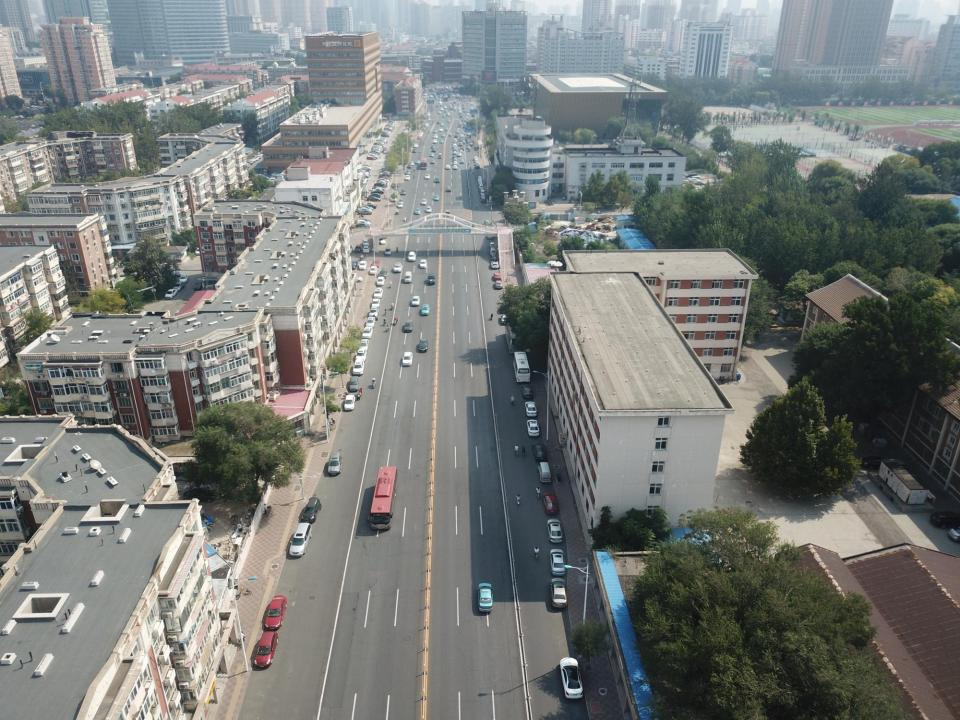bus: (367, 466, 398, 530), (505, 321, 526, 354), (513, 351, 531, 382), (420, 158, 426, 170)
car: (560, 657, 583, 699), (254, 630, 278, 668), (265, 595, 287, 629), (928, 509, 960, 529), (550, 577, 568, 608), (477, 582, 494, 612), (859, 455, 893, 470), (301, 498, 322, 522), (549, 548, 566, 576), (546, 518, 563, 543), (542, 490, 559, 514), (328, 452, 342, 474), (532, 442, 548, 461), (527, 419, 540, 437), (525, 401, 537, 417), (521, 383, 533, 399), (344, 395, 355, 410), (353, 360, 364, 375), (164, 288, 178, 299), (349, 376, 359, 391), (362, 326, 373, 339), (403, 352, 412, 366), (419, 338, 428, 352), (355, 349, 366, 360), (358, 339, 369, 350), (172, 282, 185, 291), (420, 304, 430, 315), (404, 320, 413, 332), (368, 306, 378, 316), (366, 316, 375, 327), (358, 205, 374, 211), (393, 262, 402, 272), (376, 276, 385, 286), (408, 251, 416, 262), (358, 210, 372, 216), (358, 207, 372, 213), (411, 296, 420, 305), (374, 288, 382, 298), (355, 223, 371, 228), (194, 280, 202, 290), (363, 203, 376, 209), (366, 197, 381, 202), (494, 280, 502, 289), (379, 268, 387, 277), (179, 274, 188, 282), (419, 260, 427, 268), (372, 298, 380, 306), (384, 247, 392, 255), (354, 244, 362, 252), (370, 266, 377, 275), (359, 261, 366, 270), (374, 182, 386, 187), (491, 260, 498, 268), (372, 259, 380, 266), (362, 246, 370, 253), (362, 239, 370, 246), (350, 261, 357, 269), (356, 220, 370, 224), (370, 190, 384, 194), (494, 273, 501, 280), (368, 193, 380, 197), (372, 188, 384, 192), (490, 255, 496, 262), (489, 242, 495, 248), (397, 202, 403, 208), (415, 208, 421, 214), (426, 206, 432, 212), (421, 198, 427, 204), (434, 195, 440, 201), (446, 186, 452, 192), (404, 174, 410, 180), (453, 160, 458, 166), (445, 165, 451, 170), (435, 176, 440, 182), (424, 174, 430, 179), (401, 189, 406, 195), (404, 170, 410, 175), (453, 165, 458, 170), (414, 160, 420, 164), (446, 210, 450, 216), (407, 164, 412, 168), (460, 159, 464, 163), (410, 161, 414, 165), (453, 158, 457, 160)
van: (289, 522, 312, 556), (537, 461, 552, 483), (428, 273, 436, 285), (404, 271, 412, 283), (490, 248, 496, 255)
